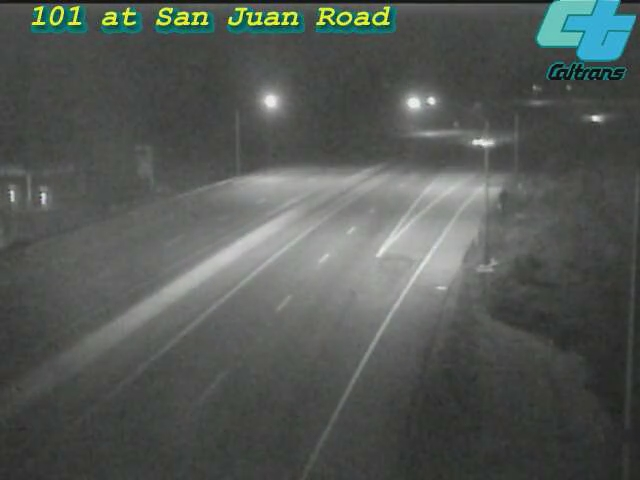vehicle: (571, 95, 621, 145), (456, 117, 506, 167)
